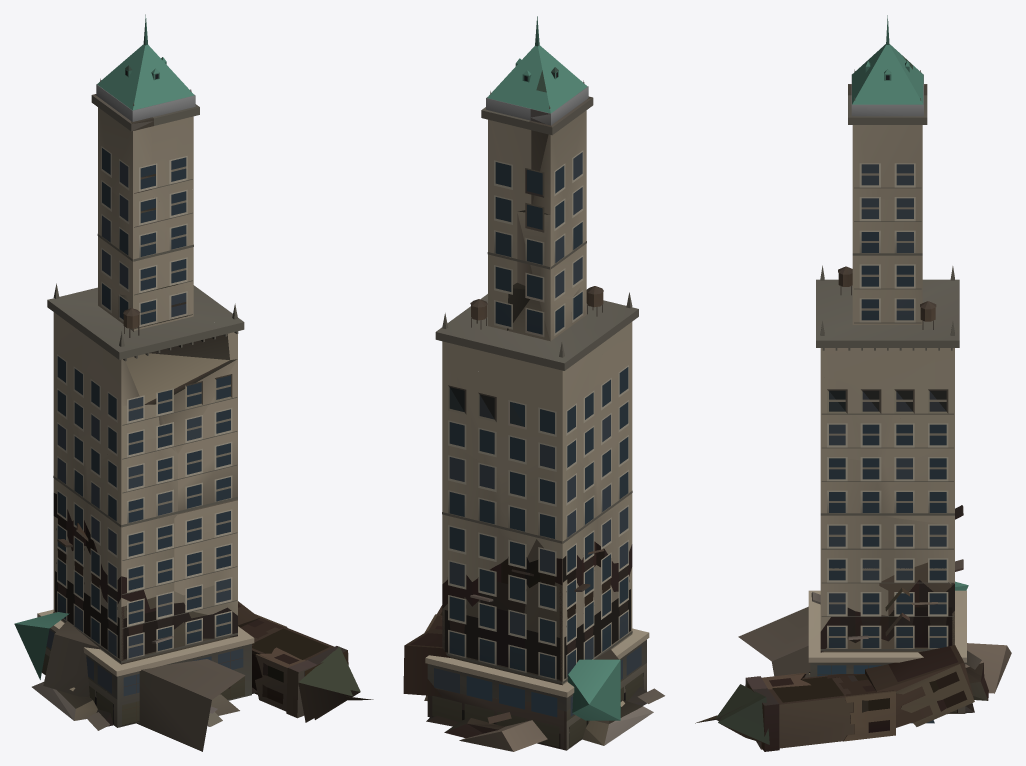
File: bld_ww1_skyscraper_fractured.glb
The picture shows the model from 3 angles, left to right: view 1: azimuth 30°, elevation 25°; view 2: azimuth 150°, elevation 25°; view 3: azimuth 270°, elevation 25°; orthographic projection. The views are drawn at different scales.
Visible parts, largest first — view 1: bld_ww1_skyscraper_DMG_mesh, bld_ww1_skyscraper_RUIN_LOD2_mesh, bld_ww1_skyscraper_RUIN_LOD0_mesh, bld_ww1_skyscraper_FRAC_21_mesh, bld_ww1_skyscraper_RUIN_LOD1_mesh, bld_ww1_skyscraper_FRAC_02_mesh, bld_ww1_skyscraper_FRAC_13_mesh, bld_ww1_skyscraper_FRAC_09_mesh, bld_ww1_skyscraper_FRAC_24_mesh, bld_ww1_skyscraper_FRAC_25_mesh, bld_ww1_skyscraper_FRAC_23_mesh, bld_ww1_skyscraper_FRAC_18_mesh (+11 smaller); view 2: bld_ww1_skyscraper_DMG_mesh, bld_ww1_skyscraper_RUIN_LOD1_mesh, bld_ww1_skyscraper_RUIN_LOD0_mesh, bld_ww1_skyscraper_FRAC_23_mesh, bld_ww1_skyscraper_FRAC_14_mesh, bld_ww1_skyscraper_FRAC_02_mesh, bld_ww1_skyscraper_FRAC_20_mesh, bld_ww1_skyscraper_FRAC_17_mesh, bld_ww1_skyscraper_RUIN_LOD2_mesh, bld_ww1_skyscraper_FRAC_22_mesh, bld_ww1_skyscraper_FRAC_12_mesh, bld_ww1_skyscraper_FRAC_21_mesh (+13 smaller); view 3: bld_ww1_skyscraper_DMG_mesh, bld_ww1_skyscraper_RUIN_LOD1_mesh, bld_ww1_skyscraper_RUIN_LOD0_mesh, bld_ww1_skyscraper_FRAC_22_mesh, bld_ww1_skyscraper_FRAC_02_mesh, bld_ww1_skyscraper_FRAC_16_mesh, bld_ww1_skyscraper_FRAC_19_mesh, bld_ww1_skyscraper_FRAC_17_mesh, bld_ww1_skyscraper_RUIN_LOD2_mesh, bld_ww1_skyscraper_FRAC_12_mesh, bld_ww1_skyscraper_FRAC_07_mesh, bld_ww1_skyscraper_FRAC_11_mesh (+6 smaller).
Part boxes in pixels (x1=…): bld_ww1_skyscraper_DMG_mesh: x1=54, y1=65, x2=244, y2=725; bld_ww1_skyscraper_RUIN_LOD2_mesh: x1=14, y1=612, x2=257, y2=751; bld_ww1_skyscraper_RUIN_LOD0_mesh: x1=32, y1=493, x2=373, y2=730; bld_ww1_skyscraper_FRAC_21_mesh: x1=89, y1=278, x2=232, y2=405; bld_ww1_skyscraper_RUIN_LOD1_mesh: x1=42, y1=571, x2=360, y2=726; bld_ww1_skyscraper_FRAC_02_mesh: x1=128, y1=14, x2=199, y2=201; bld_ww1_skyscraper_FRAC_13_mesh: x1=87, y1=431, x2=177, y2=530; bld_ww1_skyscraper_FRAC_09_mesh: x1=87, y1=504, x2=174, y2=607; bld_ww1_skyscraper_FRAC_24_mesh: x1=97, y1=180, x2=165, y2=295; bld_ww1_skyscraper_FRAC_25_mesh: x1=96, y1=58, x2=157, y2=205; bld_ww1_skyscraper_FRAC_23_mesh: x1=47, y1=281, x2=117, y2=372; bld_ww1_skyscraper_FRAC_18_mesh: x1=55, y1=368, x2=159, y2=467; bld_ww1_skyscraper_DMG_mesh: x1=442, y1=67, x2=632, y2=683; bld_ww1_skyscraper_RUIN_LOD1_mesh: x1=403, y1=539, x2=653, y2=750; bld_ww1_skyscraper_RUIN_LOD0_mesh: x1=424, y1=541, x2=664, y2=751; bld_ww1_skyscraper_FRAC_23_mesh: x1=475, y1=303, x2=607, y2=424; bld_ww1_skyscraper_FRAC_14_mesh: x1=500, y1=441, x2=597, y2=556; bld_ww1_skyscraper_FRAC_02_mesh: x1=481, y1=16, x2=555, y2=211; bld_ww1_skyscraper_FRAC_20_mesh: x1=442, y1=375, x2=566, y2=475; bld_ww1_skyscraper_FRAC_17_mesh: x1=442, y1=437, x2=500, y2=534; bld_ww1_skyscraper_RUIN_LOD2_mesh: x1=426, y1=649, x2=646, y2=750; bld_ww1_skyscraper_FRAC_22_mesh: x1=435, y1=284, x2=512, y2=375; bld_ww1_skyscraper_FRAC_12_mesh: x1=442, y1=525, x2=501, y2=596; bld_ww1_skyscraper_FRAC_21_mesh: x1=572, y1=286, x2=638, y2=377; bld_ww1_skyscraper_DMG_mesh: x1=809, y1=55, x2=954, y2=672; bld_ww1_skyscraper_RUIN_LOD1_mesh: x1=718, y1=562, x2=985, y2=751; bld_ww1_skyscraper_RUIN_LOD0_mesh: x1=695, y1=505, x2=1011, y2=749; bld_ww1_skyscraper_FRAC_22_mesh: x1=816, y1=284, x2=959, y2=394; bld_ww1_skyscraper_FRAC_02_mesh: x1=848, y1=15, x2=927, y2=201; bld_ww1_skyscraper_FRAC_16_mesh: x1=852, y1=197, x2=922, y2=294; bld_ww1_skyscraper_FRAC_19_mesh: x1=820, y1=376, x2=901, y2=463; bld_ww1_skyscraper_FRAC_17_mesh: x1=884, y1=441, x2=954, y2=525; bld_ww1_skyscraper_RUIN_LOD2_mesh: x1=738, y1=581, x2=974, y2=714; bld_ww1_skyscraper_FRAC_12_mesh: x1=879, y1=516, x2=954, y2=583; bld_ww1_skyscraper_FRAC_07_mesh: x1=808, y1=586, x2=888, y2=668; bld_ww1_skyscraper_FRAC_11_mesh: x1=820, y1=517, x2=879, y2=593.
Size of the model in its own units: 53.52 by 145 by 61.41.
